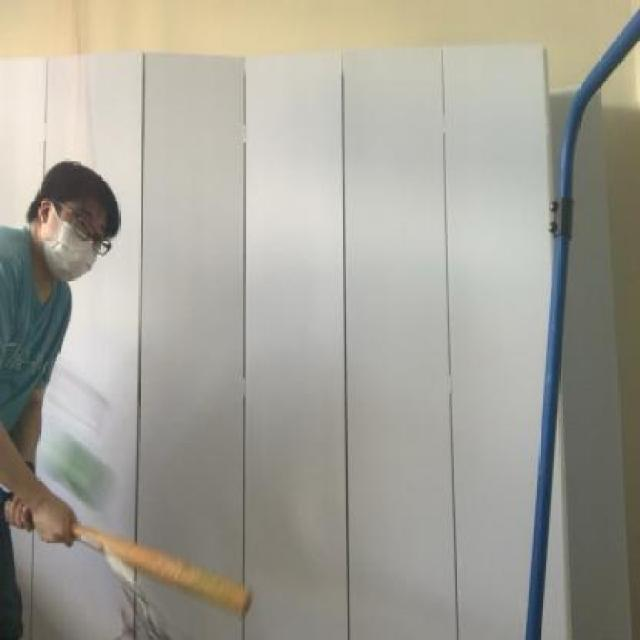baseball: (42, 425, 122, 513)
